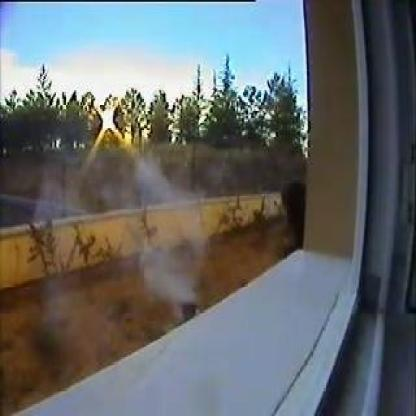-: (135, 249, 199, 304)
